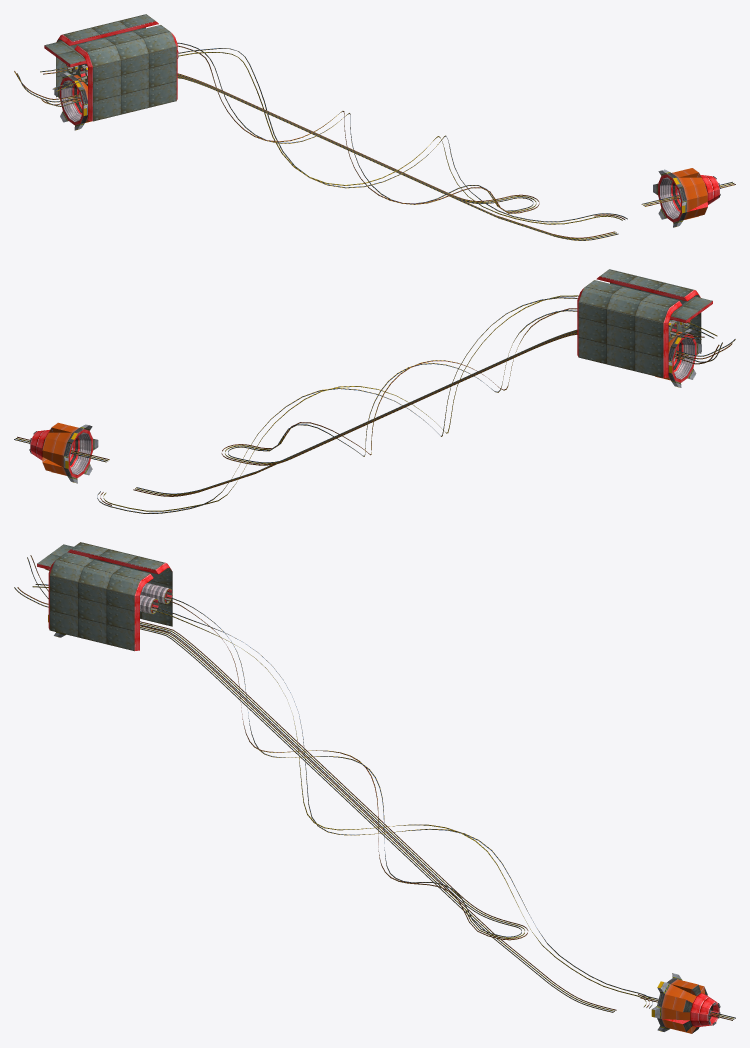
Rendered from railcanyon17.obj.
3 renders of one model, top to bottom at view 1: azimuth 30°, elevation 25°; view 2: azimuth 150°, elevation 25°; view 3: azimuth 330°, elevation 25°, orthographic.
Parts seen in each view (by area): view 1: Object_2, obj1; view 2: Object_2, obj1; view 3: Object_2.
Boxes of the visible parts, box(x1,y1,x2,y2) form: Object_2: box(14, 14, 735, 240); obj1: box(64, 67, 680, 219); Object_2: box(14, 269, 735, 513); obj1: box(70, 323, 691, 474); Object_2: box(14, 542, 735, 1033).
Bounding box in the file's own units: 7795 × 3406 × 977.
Materials: 40 (39 with a texture image).
